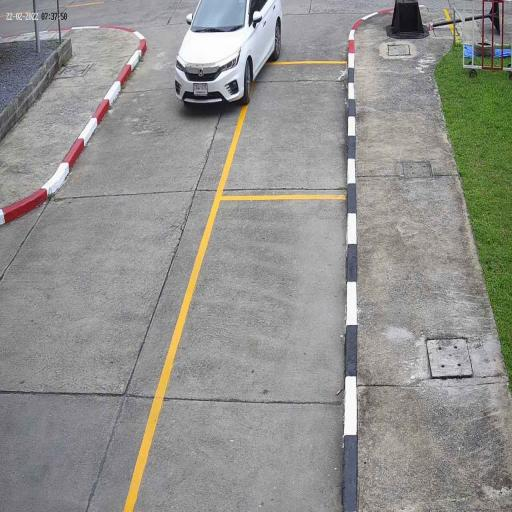car: (174, 0, 285, 109)
